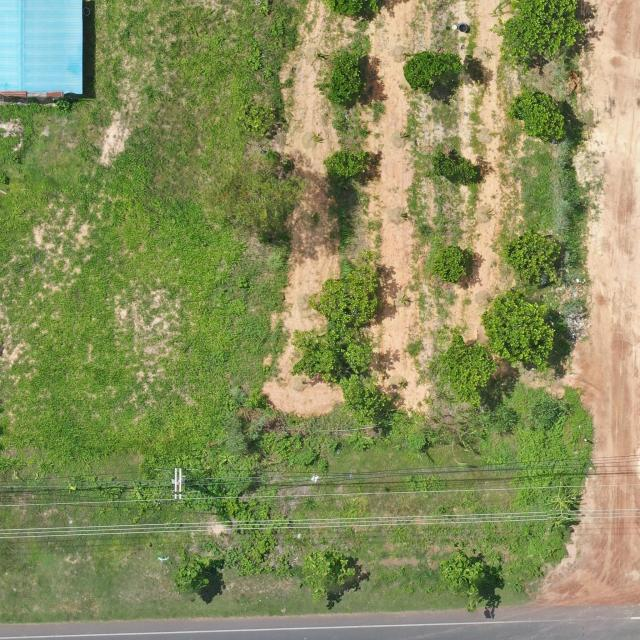Tree: (479, 286, 556, 373), (431, 333, 501, 407), (502, 0, 580, 64), (289, 328, 376, 382), (308, 268, 381, 326), (504, 228, 562, 284), (437, 546, 485, 613), (512, 90, 568, 146), (302, 546, 357, 602), (337, 374, 390, 423), (402, 50, 463, 92), (326, 50, 366, 104), (322, 147, 371, 186), (174, 548, 212, 595), (431, 148, 477, 186), (430, 245, 470, 285), (320, 0, 384, 19), (545, 482, 585, 512)
